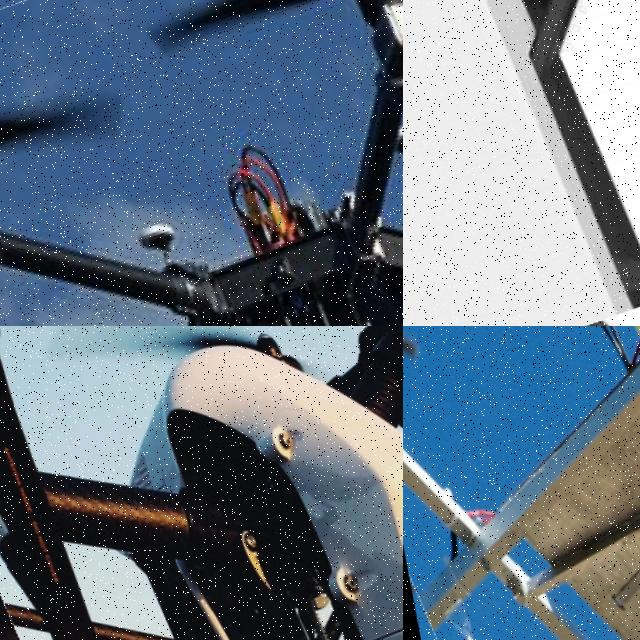drone: (0, 0, 403, 326), (0, 326, 403, 640), (403, 0, 640, 326), (403, 326, 640, 640)
